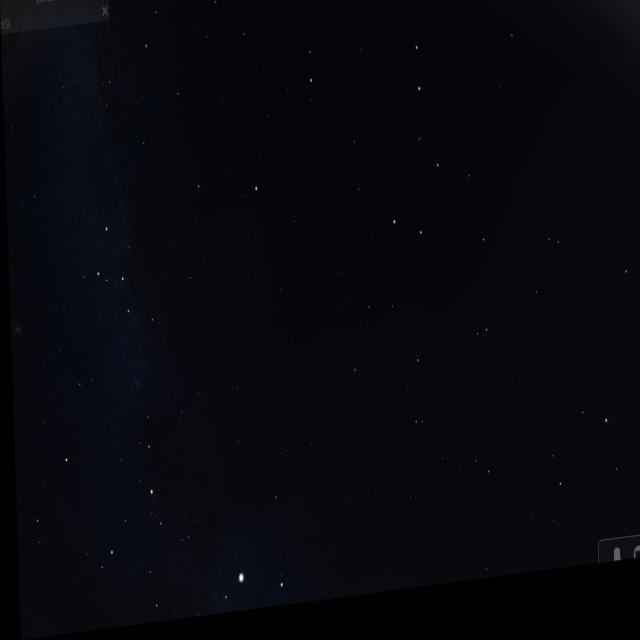cassiopeia: (85, 204, 163, 349)
ursa_major: (377, 0, 451, 264)
